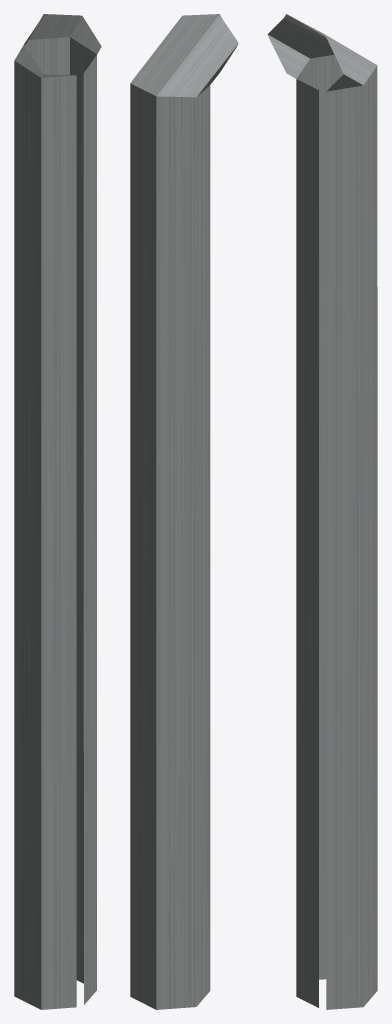
The model's file is cell_78.obj.
3 views of the same model, side by side, from view 1: azimuth 30°, elevation 25°; view 2: azimuth 150°, elevation 25°; view 3: azimuth 330°, elevation 25° (orthographic). The views are drawn at different scales.
Size of the model in its own units: 0.0562 by 0.6313 by 0.0458.
